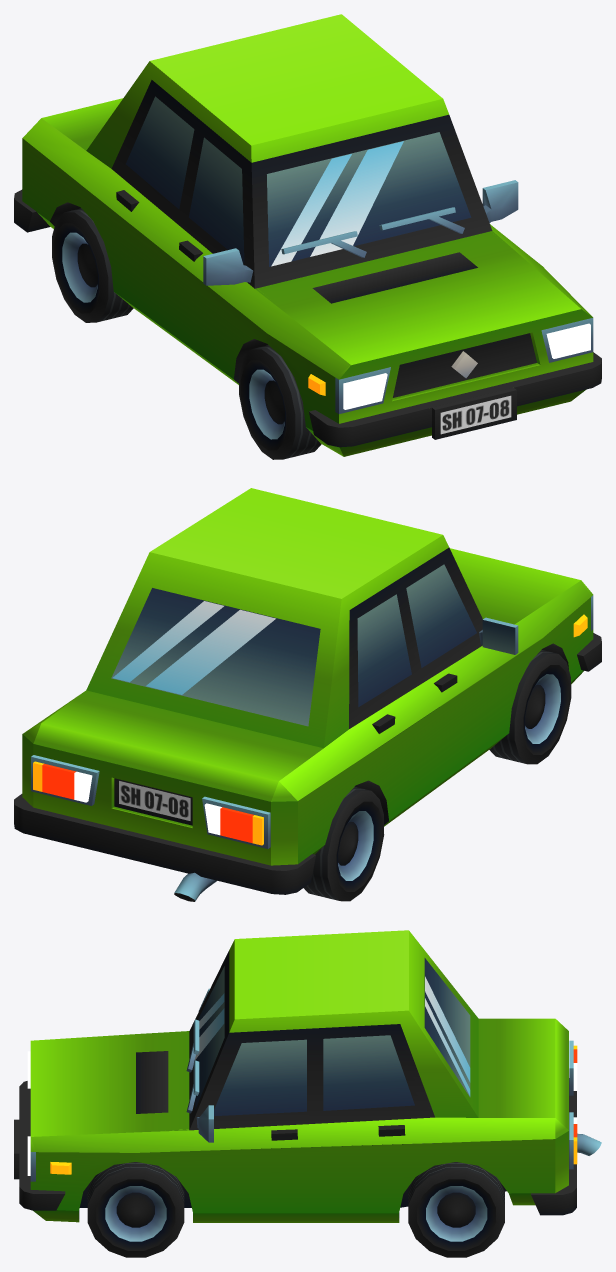
File: car.Car-01.glb
3 views of the same model, one above another, from view 1: azimuth 30°, elevation 25°; view 2: azimuth 150°, elevation 25°; view 3: azimuth 270°, elevation 25° (orthographic). The views are drawn at different scales.
Visible parts, largest first — view 1: car.Car 01; view 2: car.Car 01; view 3: car.Car 01.
Part boxes in pixels (x1=…): car.Car 01: x1=14, y1=14, x2=601, y2=459; car.Car 01: x1=14, y1=488, x2=601, y2=901; car.Car 01: x1=14, y1=930, x2=601, y2=1257.
Bounding box in the file's own units: 2.27 × 1.86 × 4.31.
2 materials, 2 textured.
